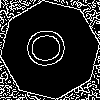O: (25, 25, 76, 70)
